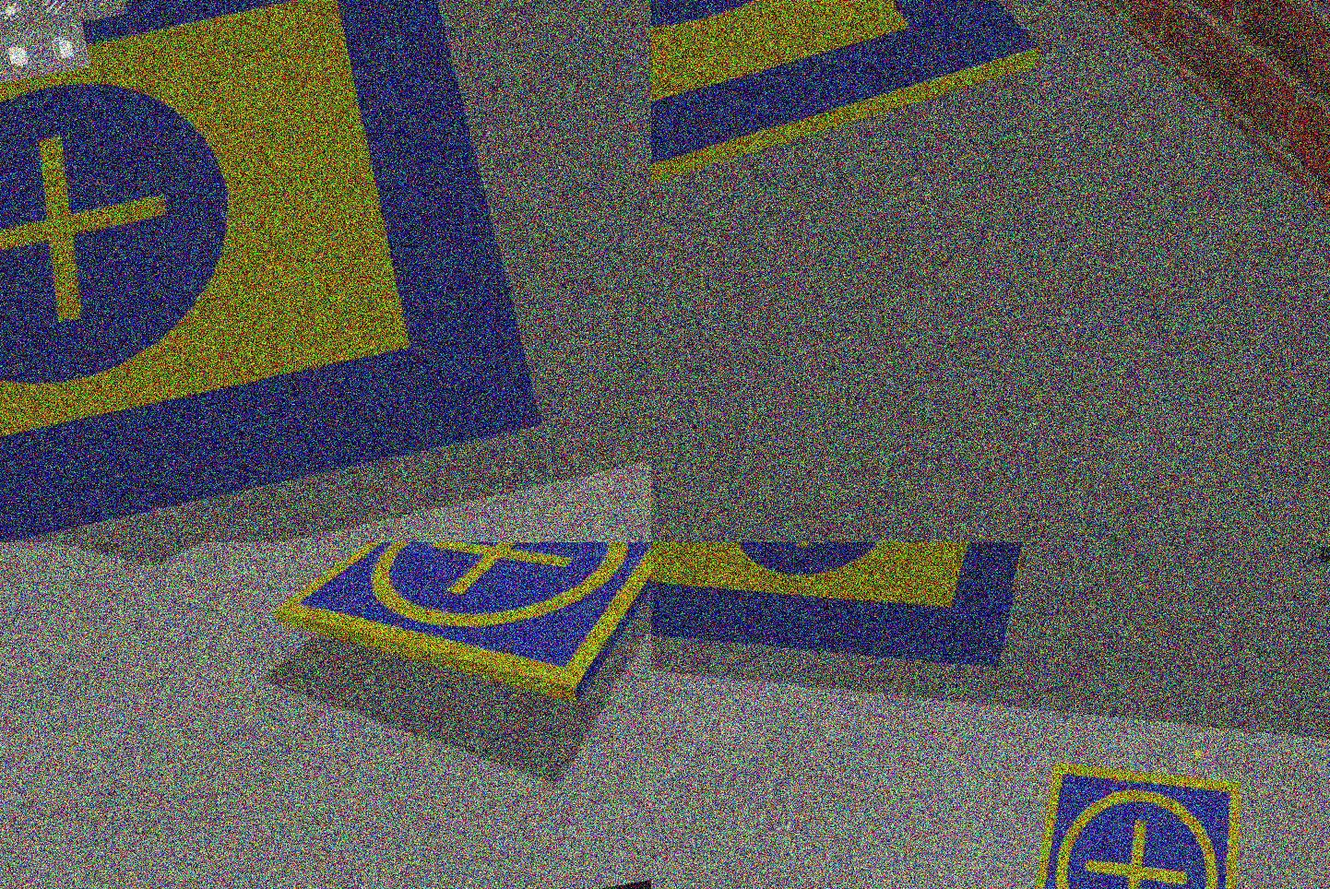large_base: (1, 1, 550, 542), (652, 1, 1063, 253), (652, 542, 1105, 747)
small_base: (261, 542, 652, 750), (982, 725, 1282, 889)
